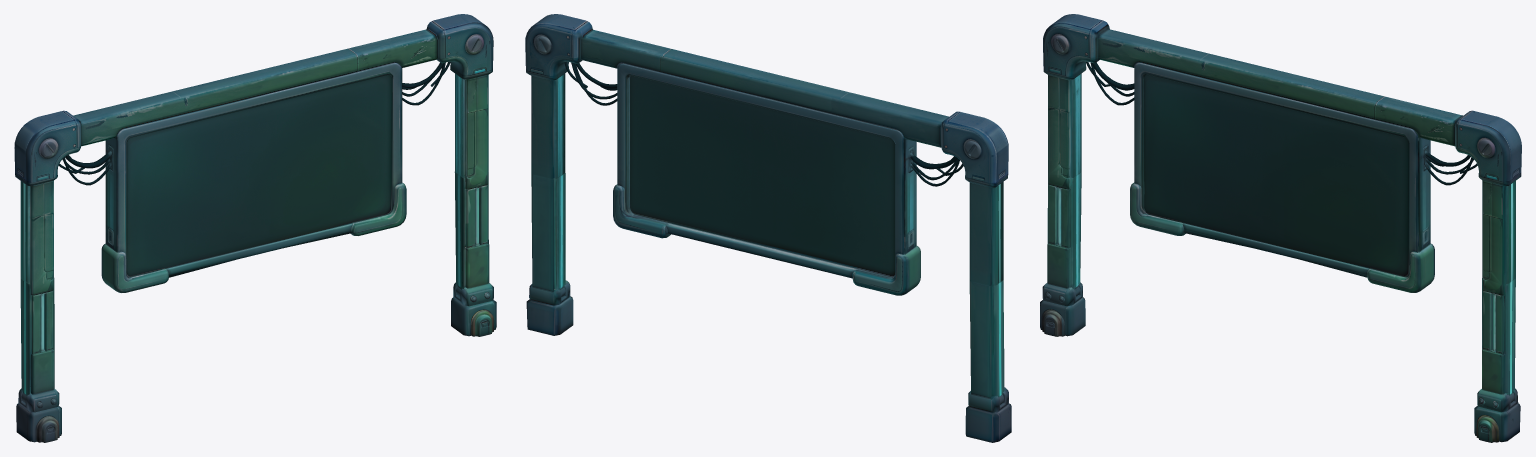
Rendered from billboard_archway_3d_model.fbx.
3 renders of one model, left to right at view 1: azimuth 30°, elevation 25°; view 2: azimuth 150°, elevation 25°; view 3: azimuth 330°, elevation 25°, orthographic.
Parts seen in each view (by area): view 1: tripo_32bc1097_40a4_41cd_a1e6_162ef7ee5a3b; view 2: tripo_32bc1097_40a4_41cd_a1e6_162ef7ee5a3b; view 3: tripo_32bc1097_40a4_41cd_a1e6_162ef7ee5a3b.
Part boxes in pixels (x1,y1,x2,y2): tripo_32bc1097_40a4_41cd_a1e6_162ef7ee5a3b: [14, 14, 496, 442]; tripo_32bc1097_40a4_41cd_a1e6_162ef7ee5a3b: [525, 14, 1011, 442]; tripo_32bc1097_40a4_41cd_a1e6_162ef7ee5a3b: [1040, 14, 1521, 442].
Size of the model in its own units: 0.9995 by 0.6294 by 0.0874.
1 material, 1 textured.
